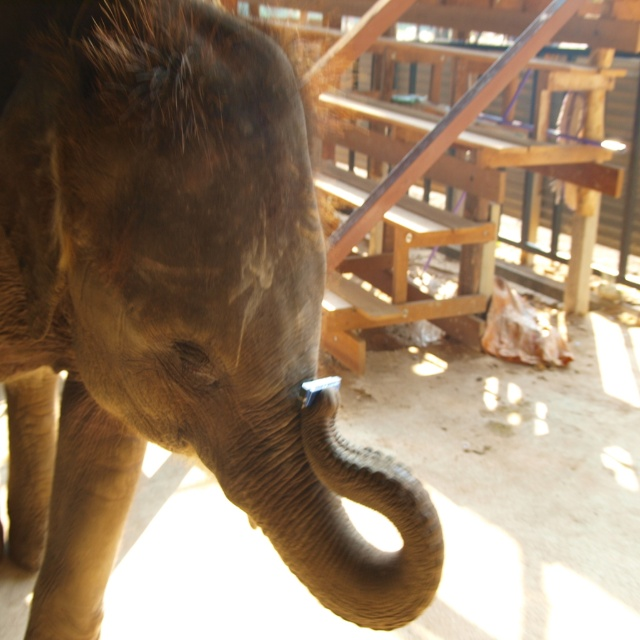Elephant: (0, 0, 444, 639)
